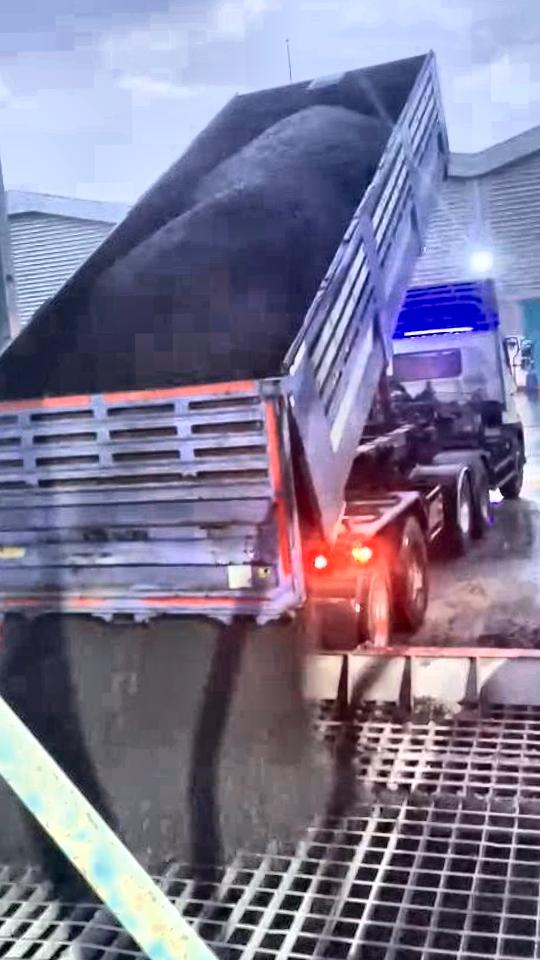gravel: (39, 108, 389, 394), (0, 616, 328, 871), (0, 756, 60, 873)
